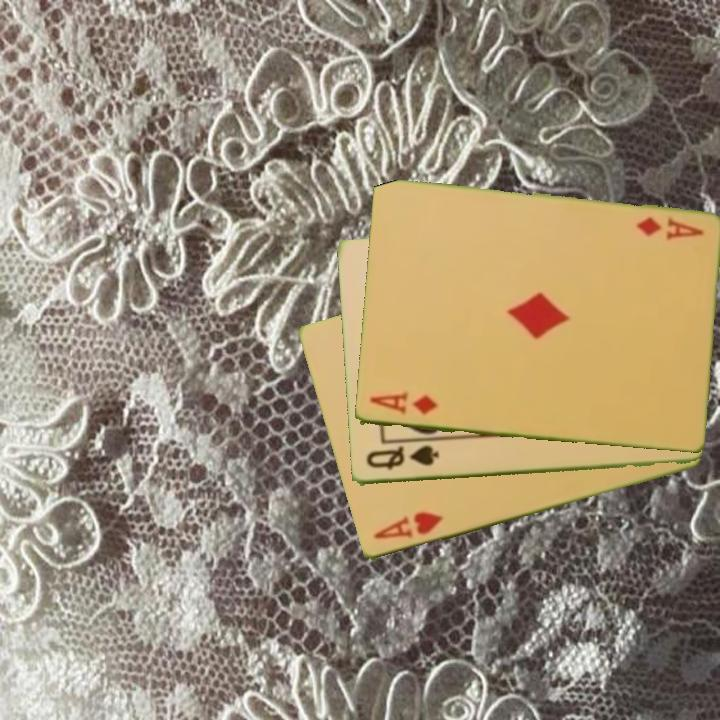Ad: (365, 390, 440, 418), (632, 214, 706, 241)
Ah: (369, 508, 446, 543)
Qs: (362, 443, 441, 473)
